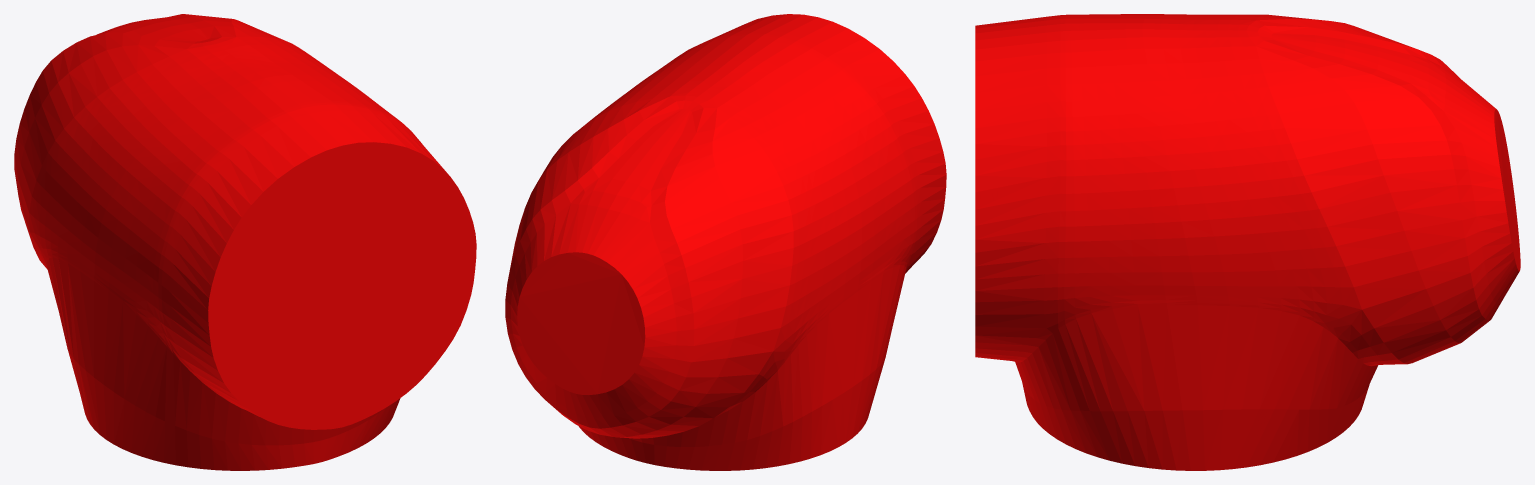
3 renders of one model, left to right at view 1: azimuth 30°, elevation 25°; view 2: azimuth 150°, elevation 25°; view 3: azimuth 270°, elevation 25°, orthographic. The views are drawn at different scales.
Parts seen in each view (by area): view 1: MF1509_4_1; view 2: MF1509_4_1; view 3: MF1509_4_1.
Boxes of the visible parts, x1=… form: MF1509_4_1: x1=14, y1=14, x2=476, y2=470; MF1509_4_1: x1=505, y1=14, x2=946, y2=470; MF1509_4_1: x1=975, y1=14, x2=1520, y2=470.
Bounding box in the file's own units: 108 × 164 × 123.
